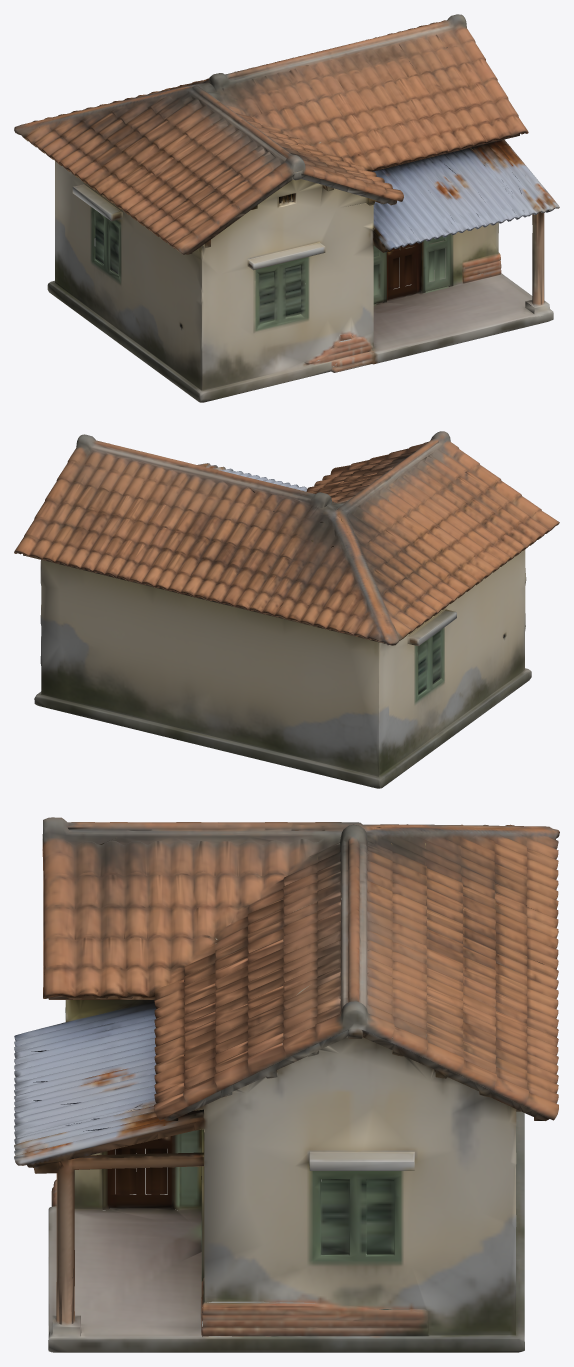
The model's file is NhaQue_Tencent_02.fbx.
3 views of the same model, one above another, from view 1: azimuth 30°, elevation 25°; view 2: azimuth 150°, elevation 25°; view 3: azimuth 270°, elevation 25° (orthographic). The views are drawn at different scales.
Visible parts, largest first — view 1: Nha02_LOD0; view 2: Nha02_LOD0; view 3: Nha02_LOD0.
Part boxes in pixels (x1=…): Nha02_LOD0: x1=14, y1=14, x2=559, y2=402; Nha02_LOD0: x1=14, y1=431, x2=559, y2=788; Nha02_LOD0: x1=14, y1=817, x2=559, y2=1352.
Size of what is drawn, in the model's own units: 7.8 by 4.45 by 6.26.
